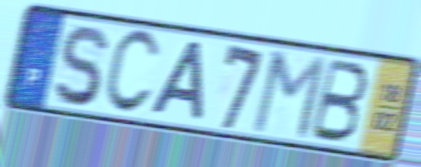7: (220, 40, 265, 132)
A: (147, 39, 207, 126)
B: (307, 56, 371, 146)
C: (100, 27, 163, 118)
M: (248, 48, 330, 143)
S: (51, 22, 110, 109)
